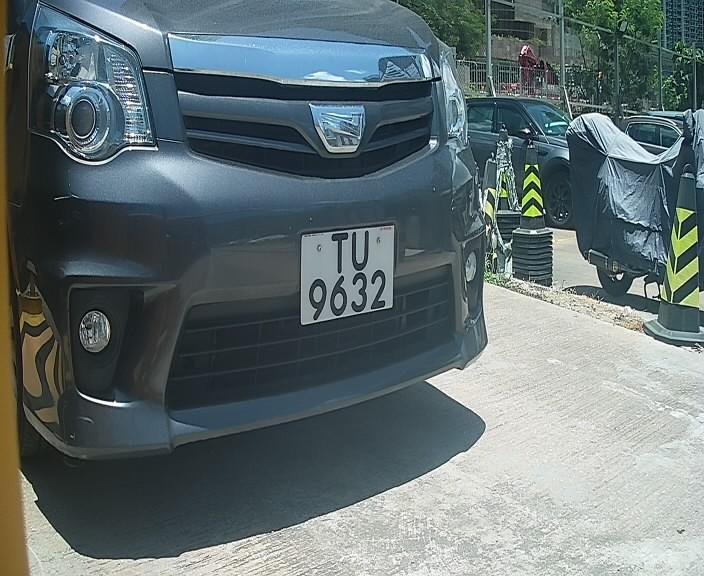Car: (10, 13, 525, 497)
License Plate: (293, 219, 400, 332)
